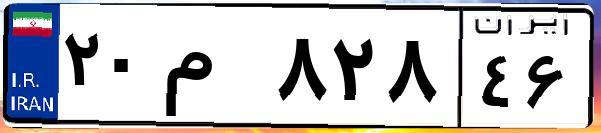0: (110, 28, 158, 98)
2: (330, 28, 385, 110), (57, 26, 110, 100)
4: (475, 38, 525, 113)
6: (525, 38, 570, 115)
8: (270, 28, 330, 110), (385, 28, 445, 110)
م: (158, 20, 270, 120)
